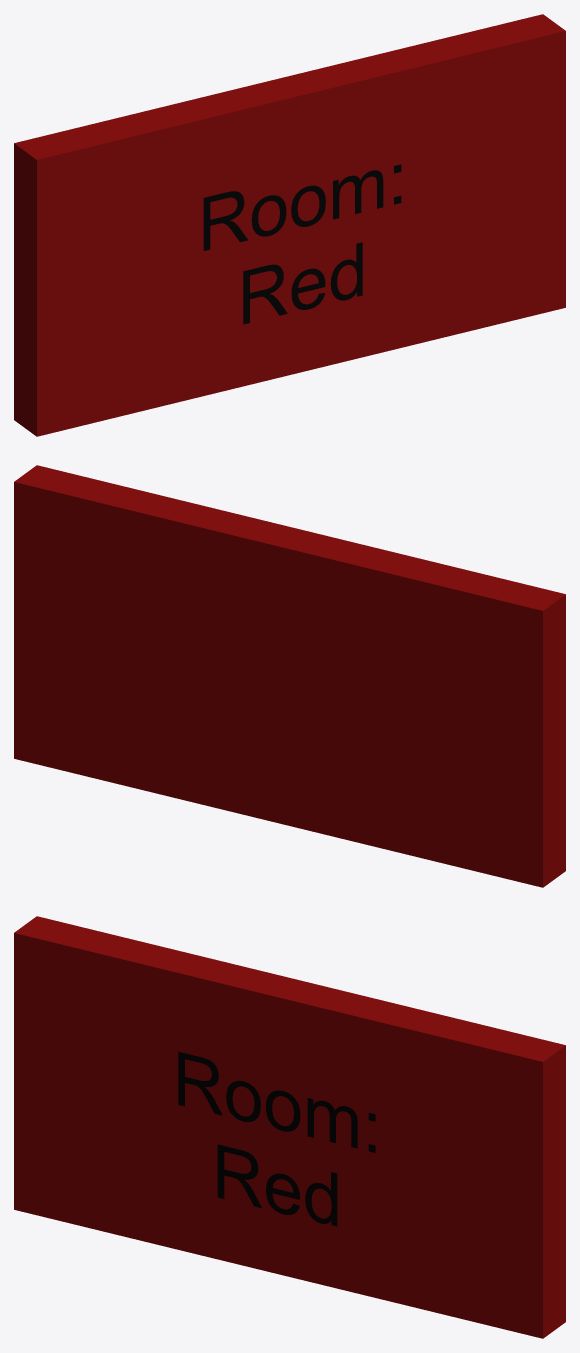
The model's file is ROOM PLAQUE - RED.fbx.
3 renders of one model, top to bottom at view 1: azimuth 30°, elevation 25°; view 2: azimuth 150°, elevation 25°; view 3: azimuth 330°, elevation 25°, orthographic.
Visible parts, largest first — view 1: Box001, TextPlus001; view 2: Box001; view 3: Box001, TextPlus001.
Boxes of the visible parts, x1=… form: Box001: x1=14, y1=14, x2=565, y2=436; TextPlus001: x1=203, y1=164, x2=401, y2=324; Box001: x1=14, y1=465, x2=565, y2=887; Box001: x1=14, y1=916, x2=565, y2=1338; TextPlus001: x1=178, y1=1051, x2=375, y2=1226.
Size of the model in its own units: 40 by 20 by 3.17.
